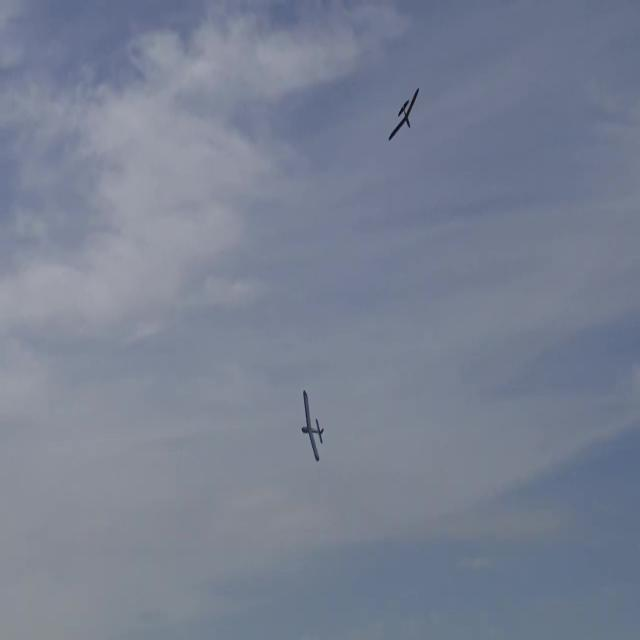iha: (387, 22, 420, 79), (301, 425, 325, 427)
